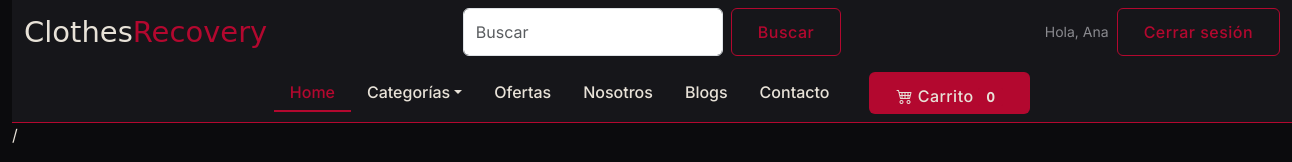
Navbar › "Cerrar sesión" termina la sesión y vuelve al inicio
This screenshot has width=1292, height=162.
Step 1. Click the button "Cerrar sesión" → click(1198, 32), box [1117,8,1280,56]
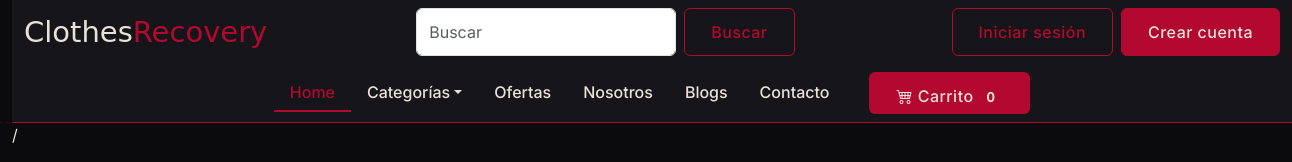
Expected: the text with test id "ruta" reads "/", [12,125,18,145]
Expected: the text "Hola, Ana" is gone
